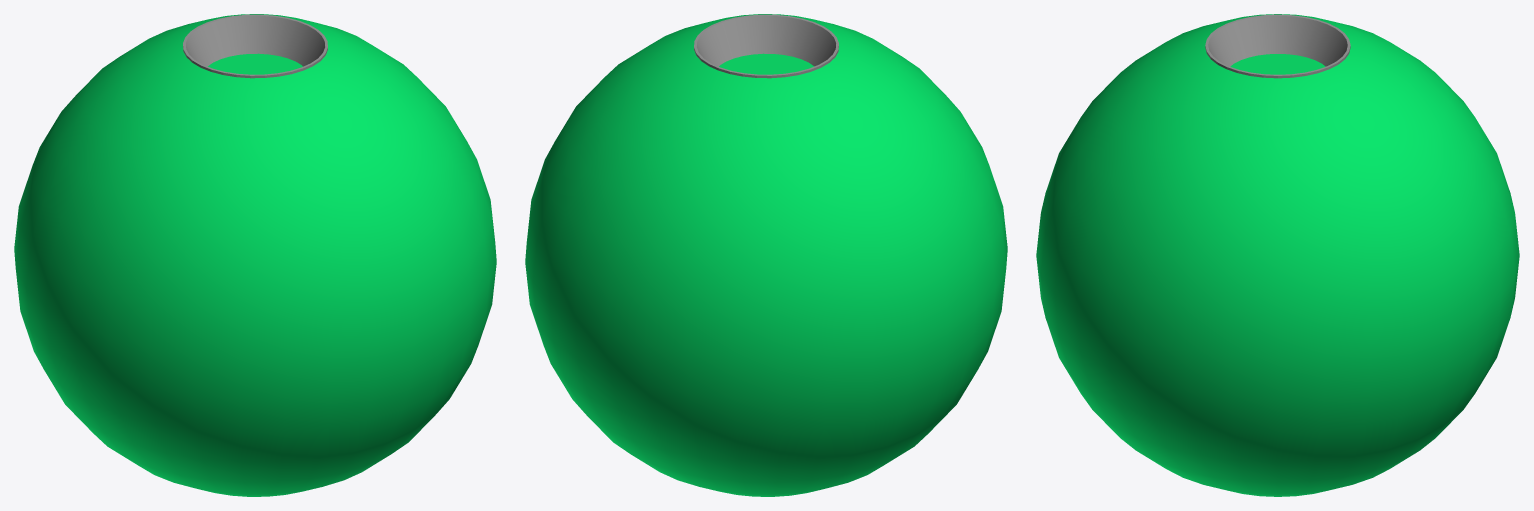
Rendered from SM_MapModel_FacilityPlanet.FBX.
3 views of the same model, side by side, from view 1: azimuth 30°, elevation 25°; view 2: azimuth 150°, elevation 25°; view 3: azimuth 270°, elevation 25° (orthographic).
Parts seen in each view (by area): view 1: er; view 2: er; view 3: er.
Boxes of the visible parts, left/top/right/bottom form: er: left=14, top=14, right=496, bottom=496; er: left=525, top=14, right=1007, bottom=496; er: left=1036, top=14, right=1519, bottom=496.
Bounding box in the file's own units: 1354 × 1327 × 1354.
